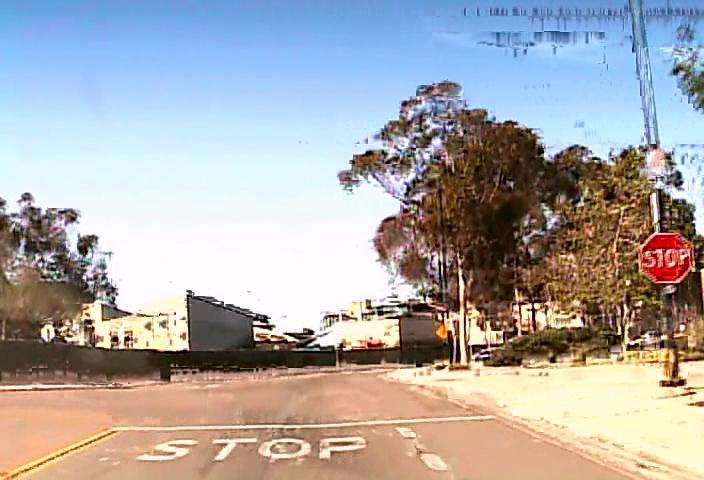stop: (638, 231, 693, 283)
